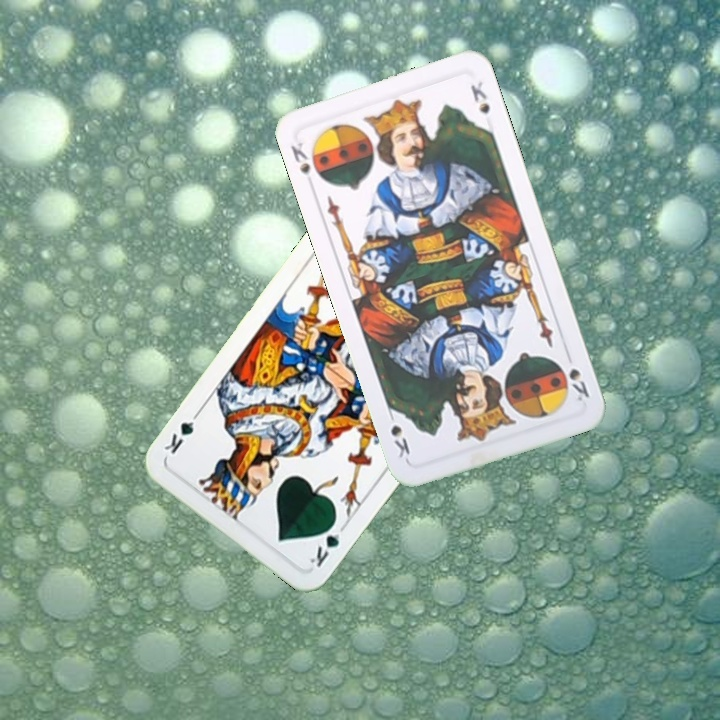GK: (305, 515, 343, 570)
SK: (565, 364, 592, 404), (286, 138, 313, 178)
